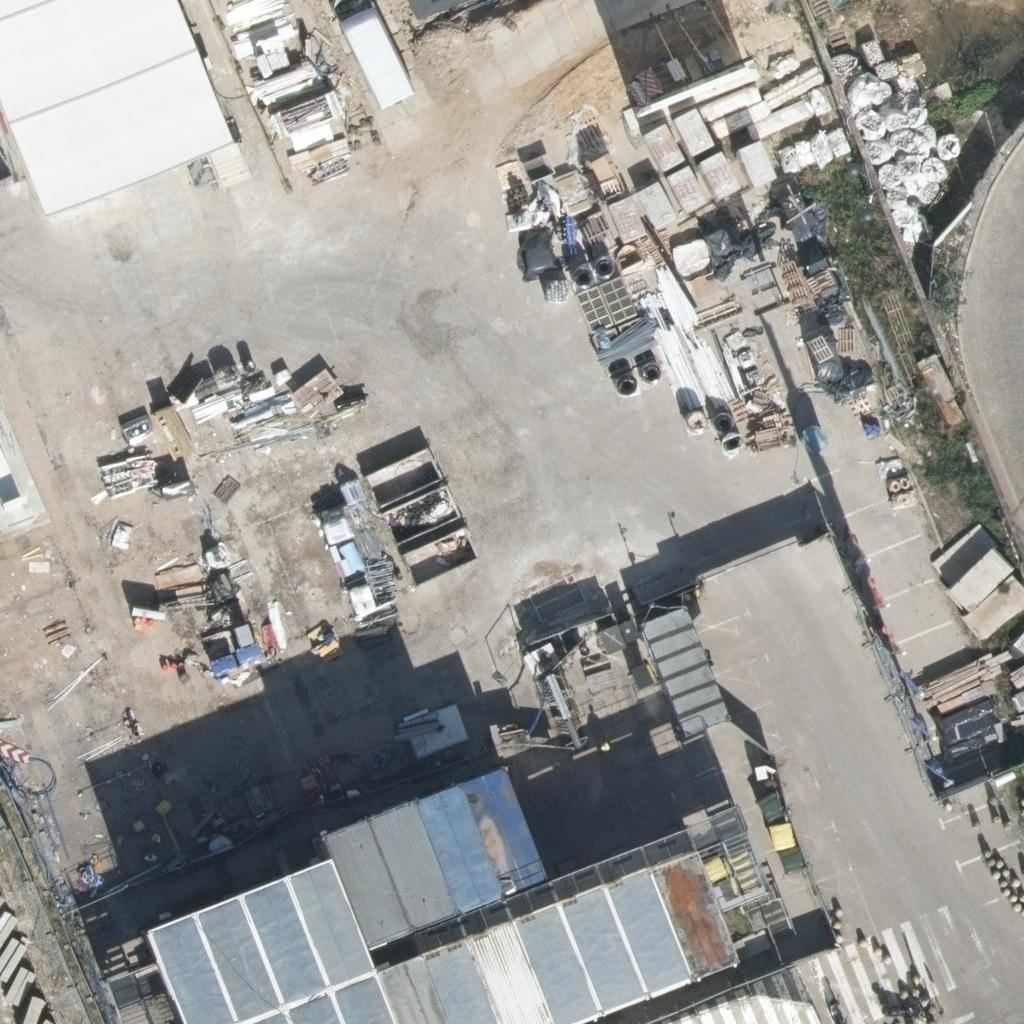samochod_osobowy: (331, 0, 414, 113)
